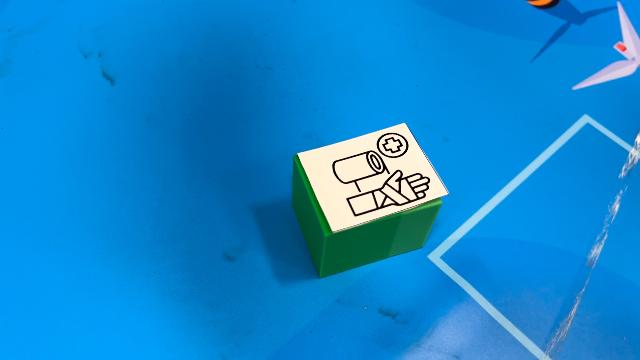bandage: (290, 121, 450, 278)
